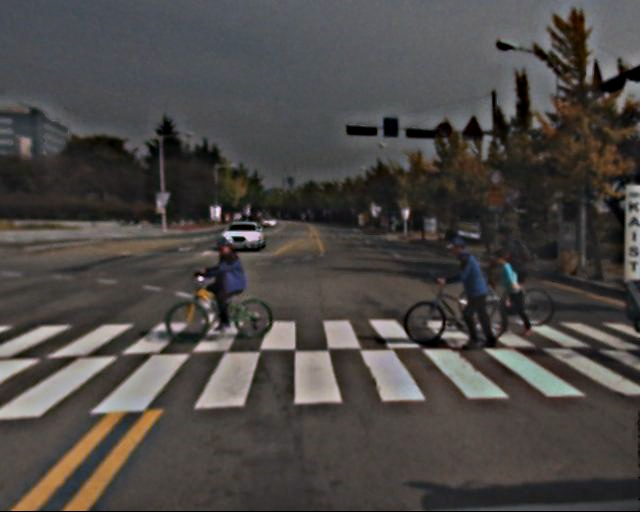person: (450, 235, 497, 349), (206, 237, 249, 332), (489, 228, 526, 322), (494, 255, 532, 336)
